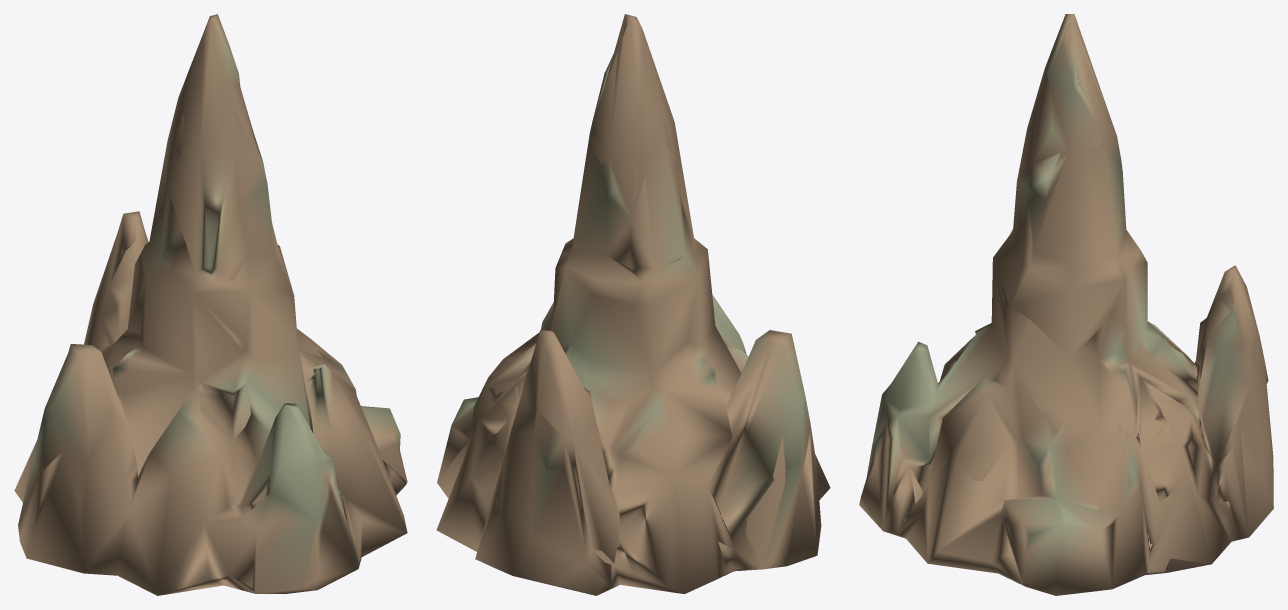
File: gen3d-stalagmite-lod1.glb
3 views of the same model, side by side, from view 1: azimuth 30°, elevation 25°; view 2: azimuth 150°, elevation 25°; view 3: azimuth 270°, elevation 25° (orthographic).
Visible parts, largest first — view 1: part_0; view 2: part_0; view 3: part_0.
Part boxes in pixels (bbox=[...]): part_0: bbox=[14, 14, 407, 595]; part_0: bbox=[436, 14, 830, 595]; part_0: bbox=[859, 14, 1273, 595].
Bounding box in the file's own units: 0.779 × 0.9969 × 0.7579.
